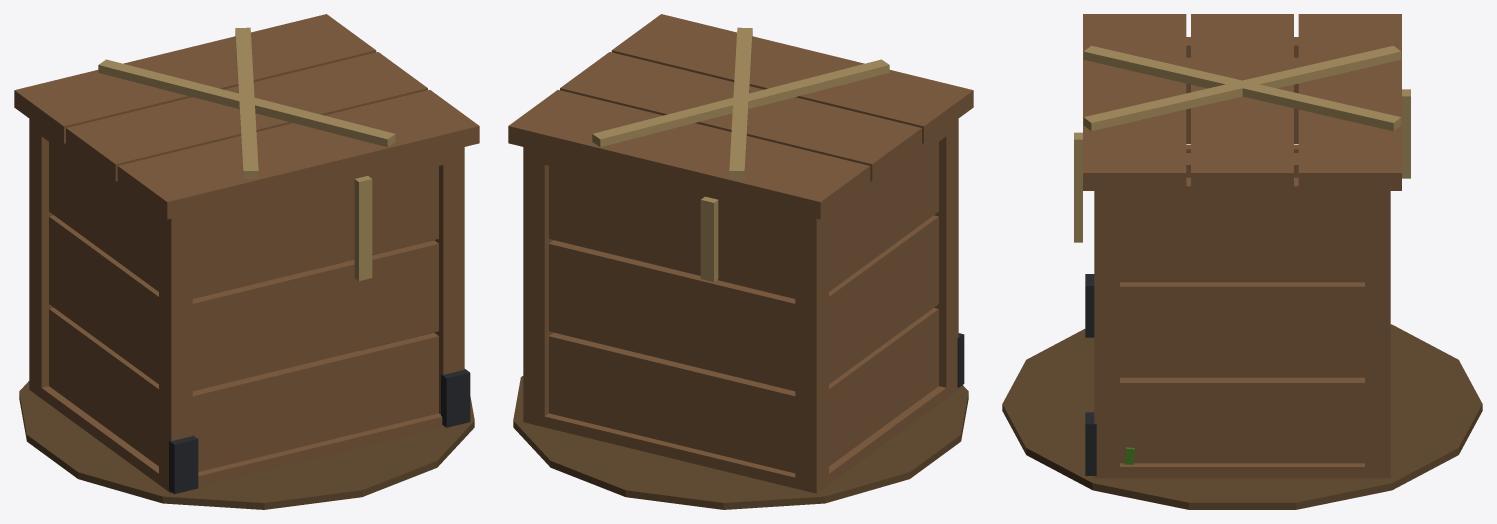
The model's file is SM_Crate_Rustic_01_Closed.glb.
3 views of the same model, side by side, from view 1: azimuth 30°, elevation 25°; view 2: azimuth 150°, elevation 25°; view 3: azimuth 270°, elevation 25° (orthographic). The views are drawn at different scales.
Parts seen in each view (by area): view 1: SM_Crate_Rustic_01_Closed_Panels, SM_Crate_Rustic_01_Closed_Lid, SM_Crate_Rustic_01_Closed_Frame, SM_Crate_Rustic_01_Closed_DirtRing, SM_Crate_Rustic_01_Closed_RopeLash0, SM_Crate_Rustic_01_Closed_RopeLash1, SM_Crate_Rustic_01_Closed_RopeDropF, SM_Crate_Rustic_01_Closed_Bracket0, SM_Crate_Rustic_01_Closed_Bracket1; view 2: SM_Crate_Rustic_01_Closed_Panels, SM_Crate_Rustic_01_Closed_Lid, SM_Crate_Rustic_01_Closed_Frame, SM_Crate_Rustic_01_Closed_DirtRing, SM_Crate_Rustic_01_Closed_RopeLash1, SM_Crate_Rustic_01_Closed_RopeLash0, SM_Crate_Rustic_01_Closed_RopeDropB; view 3: SM_Crate_Rustic_01_Closed_Panels, SM_Crate_Rustic_01_Closed_Lid, SM_Crate_Rustic_01_Closed_DirtRing, SM_Crate_Rustic_01_Closed_Frame, SM_Crate_Rustic_01_Closed_RopeLash0, SM_Crate_Rustic_01_Closed_RopeLash1, SM_Crate_Rustic_01_Closed_RopeDropF, SM_Crate_Rustic_01_Closed_RopeDropB, SM_Crate_Rustic_01_Closed_Bracket1, SM_Crate_Rustic_01_Closed_Bracket0.
Boxes of the visible parts, box(x1,y1,x2,y2) form: SM_Crate_Rustic_01_Closed_Panels: box(49, 142, 438, 471); SM_Crate_Rustic_01_Closed_Lid: box(14, 14, 479, 219); SM_Crate_Rustic_01_Closed_Frame: box(29, 119, 464, 493); SM_Crate_Rustic_01_Closed_DirtRing: box(19, 381, 474, 509); SM_Crate_Rustic_01_Closed_RopeLash0: box(98, 59, 395, 147); SM_Crate_Rustic_01_Closed_RopeLash1: box(235, 27, 258, 178); SM_Crate_Rustic_01_Closed_RopeDropF: box(354, 176, 372, 280); SM_Crate_Rustic_01_Closed_Bracket0: box(169, 435, 198, 494); SM_Crate_Rustic_01_Closed_Bracket1: box(441, 369, 470, 427); SM_Crate_Rustic_01_Closed_Panels: box(549, 142, 938, 473); SM_Crate_Rustic_01_Closed_Lid: box(508, 14, 973, 219); SM_Crate_Rustic_01_Closed_Frame: box(523, 119, 958, 493); SM_Crate_Rustic_01_Closed_DirtRing: box(513, 376, 968, 509); SM_Crate_Rustic_01_Closed_RopeLash1: box(592, 59, 889, 147); SM_Crate_Rustic_01_Closed_RopeLash0: box(729, 27, 752, 178); SM_Crate_Rustic_01_Closed_RopeDropB: box(700, 196, 718, 281); SM_Crate_Rustic_01_Closed_Panels: box(1120, 84, 1364, 463); SM_Crate_Rustic_01_Closed_Lid: box(1083, 14, 1401, 190); SM_Crate_Rustic_01_Closed_DirtRing: box(1002, 324, 1482, 509); SM_Crate_Rustic_01_Closed_Frame: box(1094, 37, 1390, 478); SM_Crate_Rustic_01_Closed_RopeLash0: box(1083, 45, 1401, 131); SM_Crate_Rustic_01_Closed_RopeLash1: box(1083, 45, 1401, 131); SM_Crate_Rustic_01_Closed_RopeDropF: box(1074, 132, 1082, 242); SM_Crate_Rustic_01_Closed_RopeDropB: box(1402, 89, 1410, 178); SM_Crate_Rustic_01_Closed_Bracket1: box(1085, 412, 1096, 475); SM_Crate_Rustic_01_Closed_Bracket0: box(1085, 274, 1094, 337).
Size of the model in its own units: 0.8221 by 0.6391 by 0.8432.
